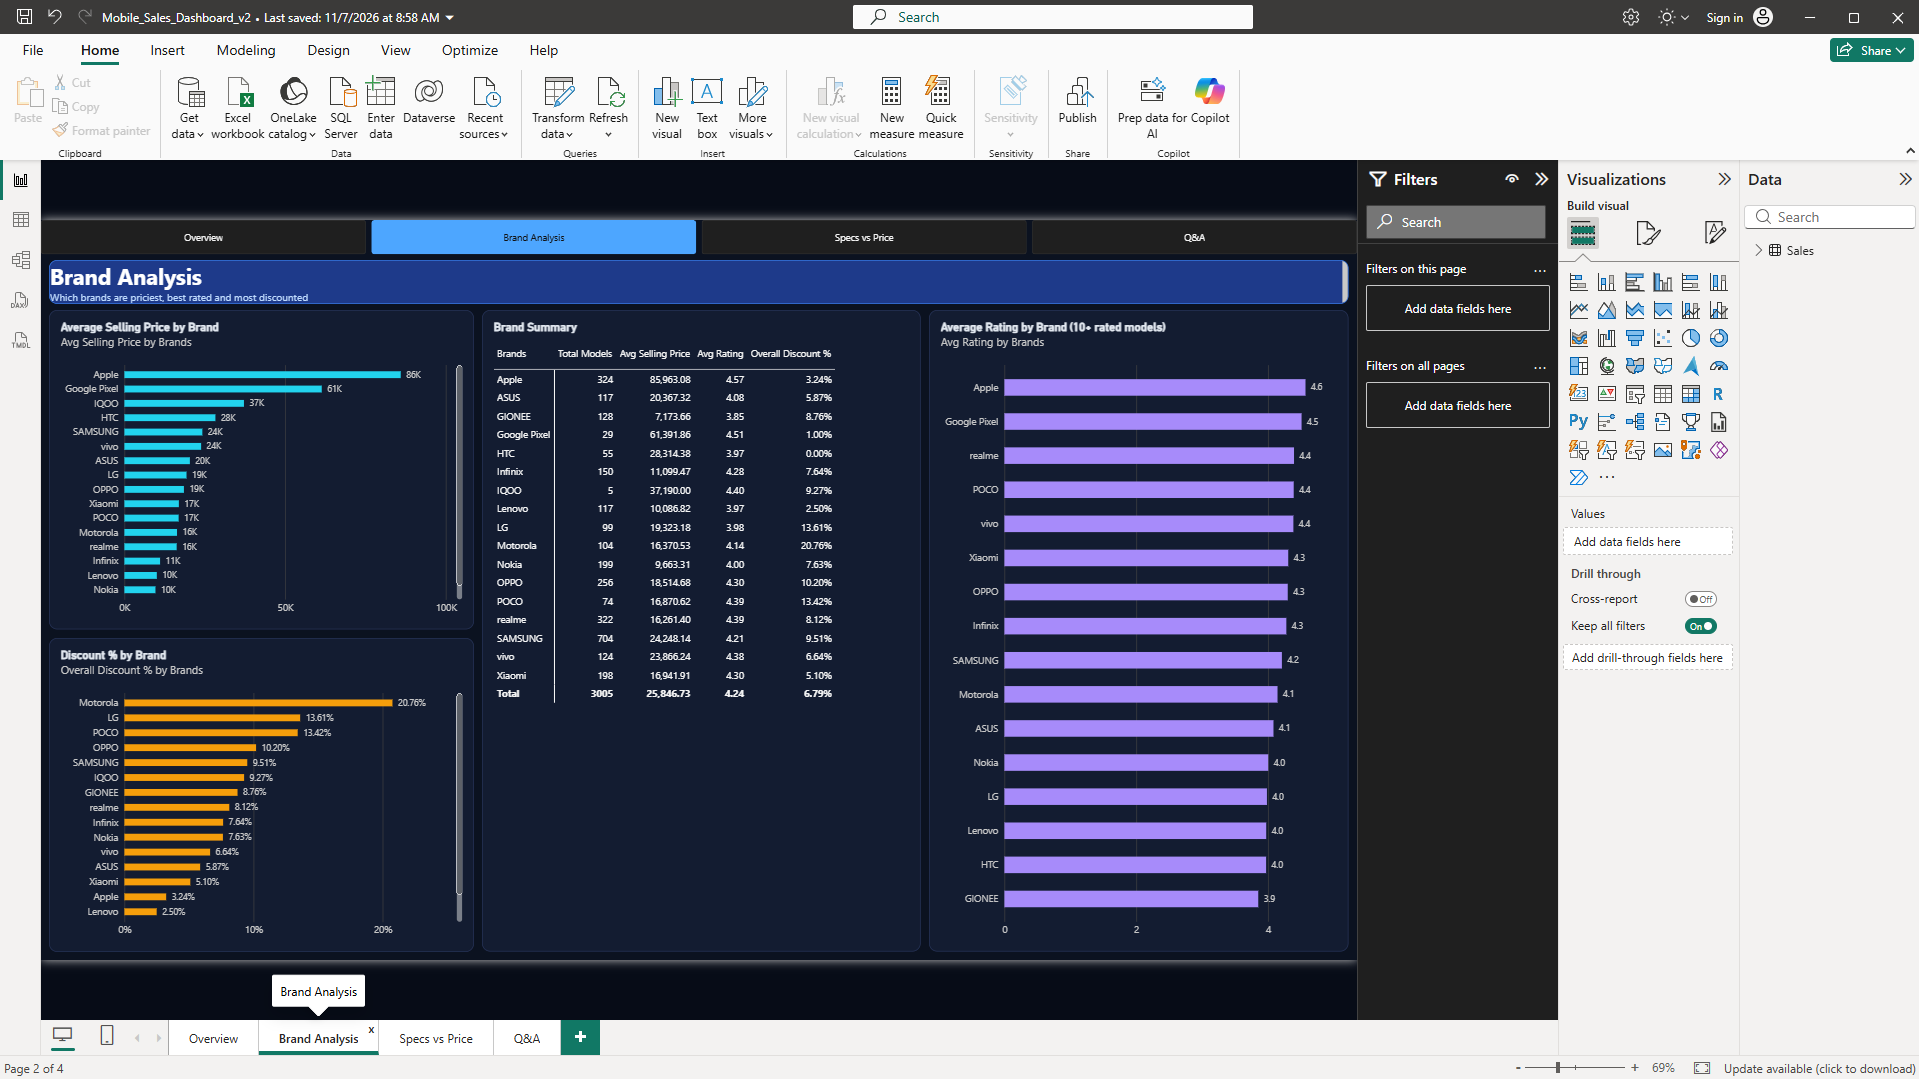

What the dashboard file says about the page in this screenshot:
{"tool":"powerbi","page":{"name":"Brand Analysis","canvas":[1920,1080],"ordinal":1},"visuals":[{"type":"clusteredBarChart","title":"Average Selling Price by Brand","fields":{"Category":["Sales.Brands"],"Y":["Sales.Avg Selling Price"]},"box":[12,132,620,466],"z":0},{"type":"clusteredBarChart","title":"Discount % by Brand","fields":{"Category":["Sales.Brands"],"Y":["Sales.Overall Discount %"]},"box":[12,610,620,458],"z":1000},{"type":"clusteredBarChart","title":"Average Rating by Brand (10+ rated models)","fields":{"Category":["Sales.Brands"],"Y":["Sales.Avg Rating"]},"box":[1296,132,612,936],"z":2000},{"type":"pivotTable","title":"Brand Summary","fields":{"Rows":["Sales.Brands"],"Values":["Sales.Total Models","Sales.Avg Selling Price","Sales.Avg Rating","Sales.Overall Discount %"]},"box":[644,132,640,936],"z":2001},{"type":"pageNavigator","box":[0,0,1920,50],"z":2002},{"type":"textbox","box":[12,58,1896,64],"z":9000}]}

Visuals, with their boxes on the page's 1920x1080 design canvas (x1, y1, x2, y2). These are canvas units, not pixel positions in the 1919x1079 screenshot, which may show the page scaled, cropped or inside an application window:
"Average Selling Price by Brand" clusteredBarChart: locate(12, 132, 632, 598)
"Discount % by Brand" clusteredBarChart: locate(12, 610, 632, 1068)
"Average Rating by Brand (10+ rated models)" clusteredBarChart: locate(1296, 132, 1908, 1068)
"Brand Summary" pivotTable: locate(644, 132, 1284, 1068)
pageNavigator: locate(0, 0, 1920, 50)
textbox: locate(12, 58, 1908, 122)
